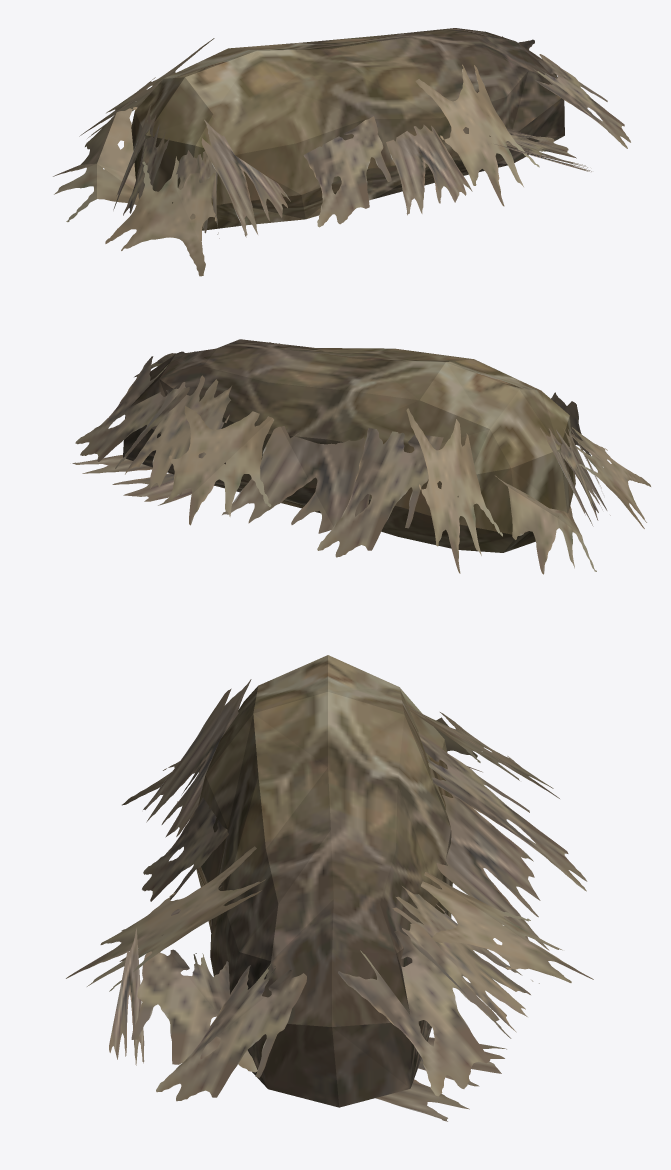
Rendered from webbed_victims_01.fbx.
3 renders of one model, top to bottom at view 1: azimuth 30°, elevation 25°; view 2: azimuth 150°, elevation 25°; view 3: azimuth 270°, elevation 25°, orthographic. The views are drawn at different scales.
Visible parts, largest first — view 1: obj0.489; view 2: obj0.489; view 3: obj0.489.
Boxes of the visible parts, <box> form: obj0.489: <box>53,28,630,276</box>; obj0.489: <box>72,339,650,574</box>; obj0.489: <box>66,655,593,1121</box>.
Size of the model in its own units: 2.26 by 0.5478 by 1.53.
